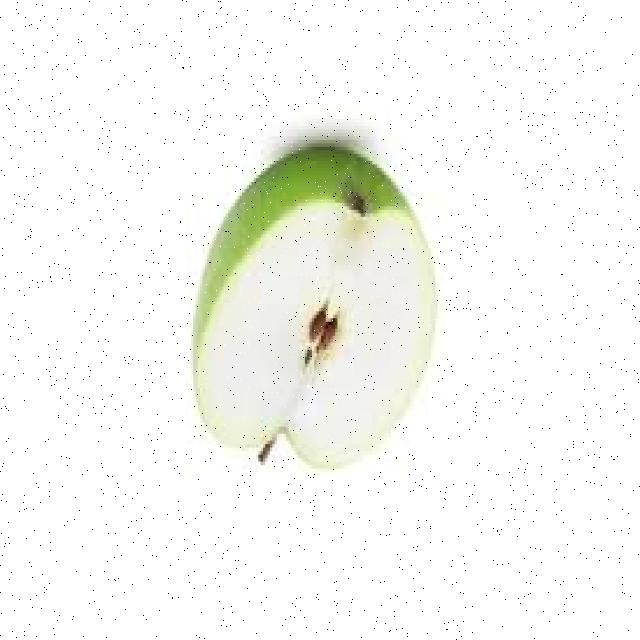Apple: (193, 151, 433, 472)
